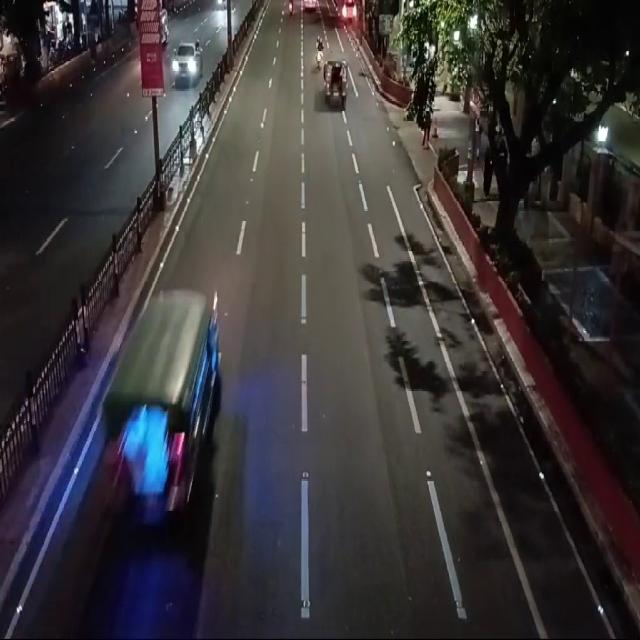car: (171, 34, 207, 94)
jeepney: (82, 253, 232, 573), (323, 56, 350, 110)
motorcycle: (313, 33, 326, 73)
